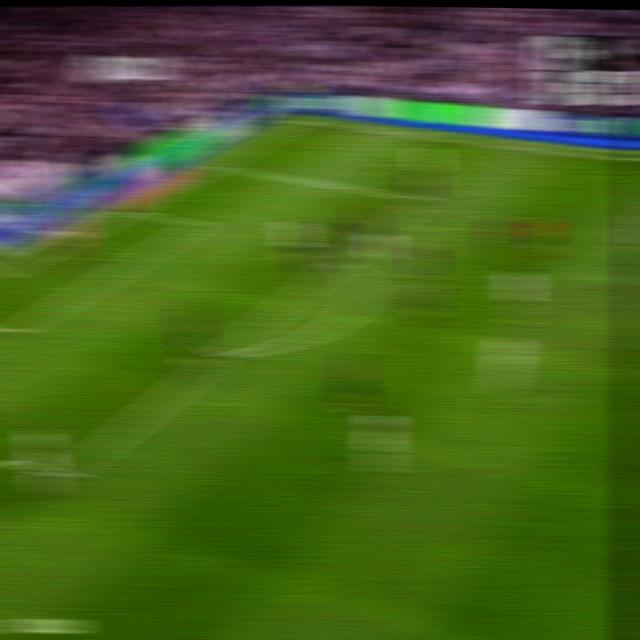bigarea_bottom_inner: (54, 464, 78, 486)
bigarea_top_inner: (409, 193, 428, 204)
bottom_arc_area_intersection: (209, 344, 234, 364)
corner: (289, 115, 311, 123)
smallarea_bottom_inner: (3, 319, 28, 339)
smallarea_top_inner: (187, 217, 207, 230)
top_arc_area_intersection: (332, 254, 353, 269)
